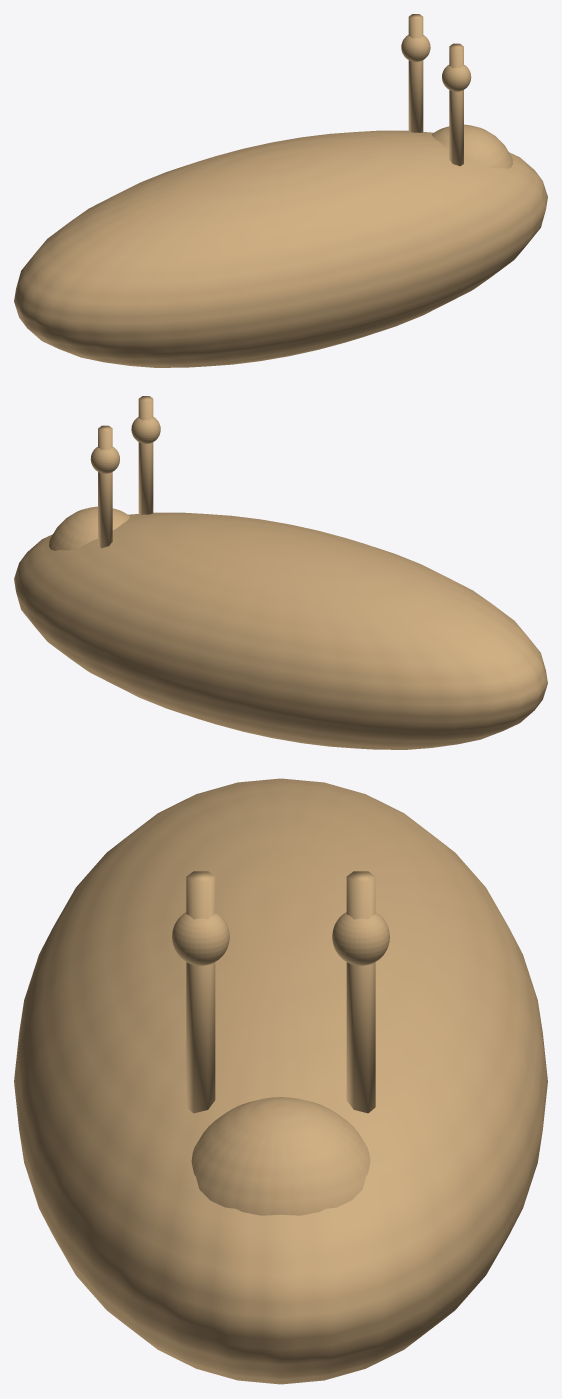
Rendered from tar_slug_04.glb.
3 views of the same model, one above another, from view 1: azimuth 30°, elevation 25°; view 2: azimuth 150°, elevation 25°; view 3: azimuth 270°, elevation 25° (orthographic). The views are drawn at different scales.
Visible parts, largest first — view 1: tar_slug_04; view 2: tar_slug_04; view 3: tar_slug_04.
Part boxes in pixels (<box>): tar_slug_04: <box>14,14,547,367</box>; tar_slug_04: <box>14,396,547,749</box>; tar_slug_04: <box>14,778,547,1384</box>.
Bounding box in the file's own units: 4.07 × 2.01 × 1.84.
